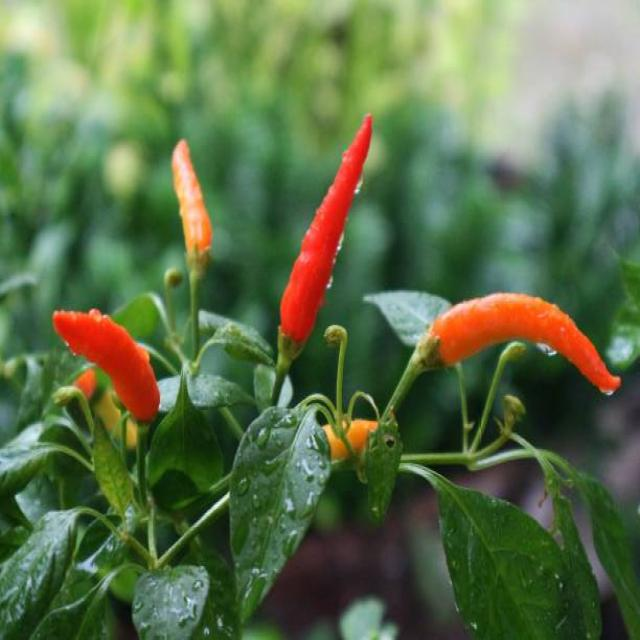Ripe: (281, 113, 372, 344), (430, 293, 620, 392), (52, 308, 160, 422)
